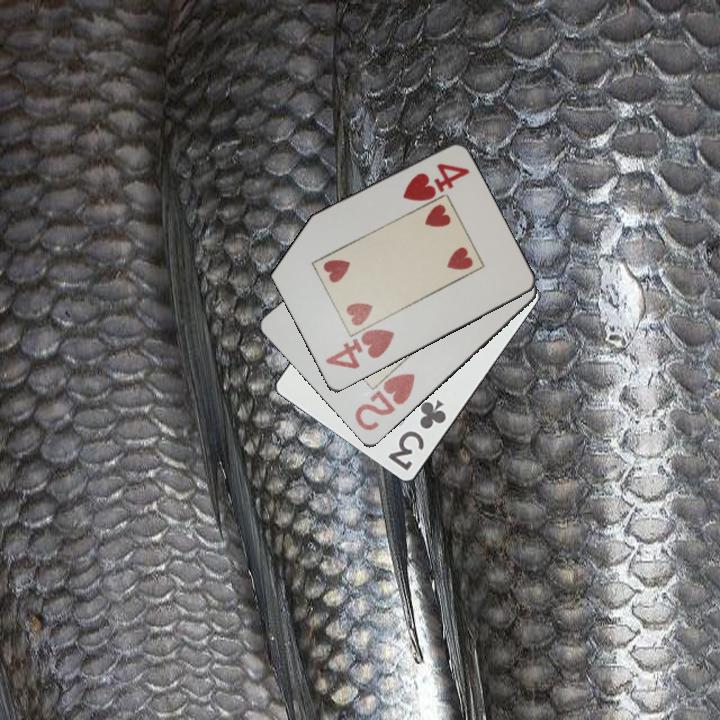2h: (351, 369, 418, 434)
3c: (384, 396, 449, 474)
4h: (322, 325, 397, 373), (399, 160, 472, 205)
